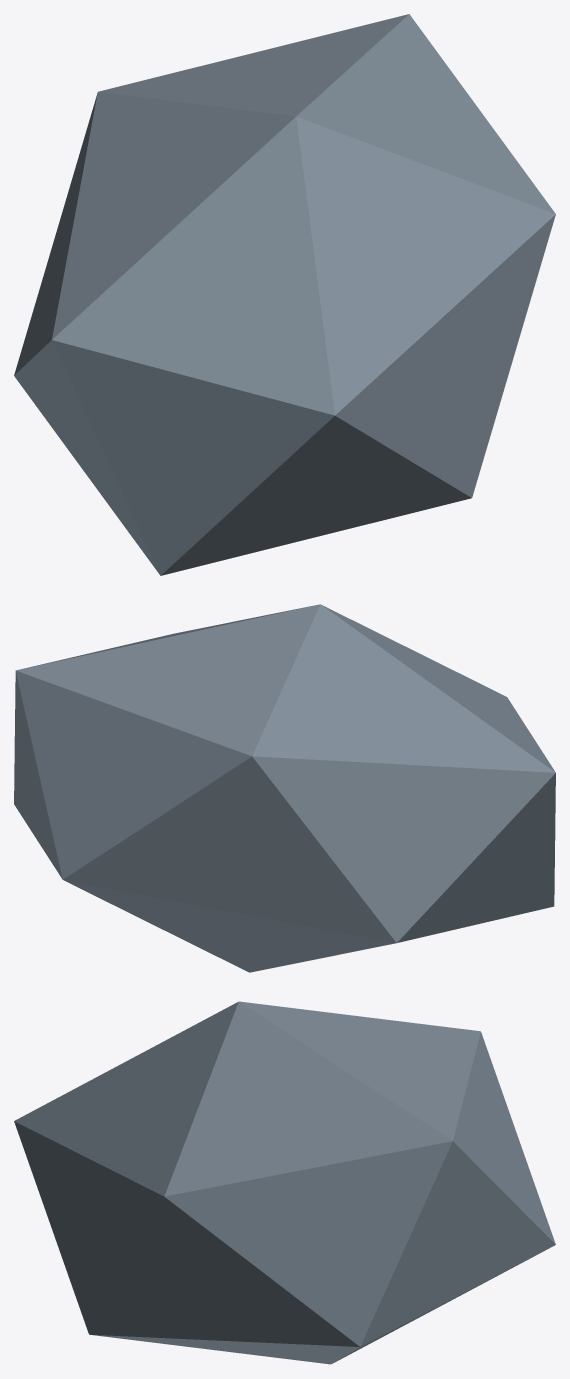
The model's file is INT_C_WallRubble_00_Stone_1.glb.
3 views of the same model, one above another, from view 1: azimuth 30°, elevation 25°; view 2: azimuth 150°, elevation 25°; view 3: azimuth 270°, elevation 25° (orthographic). The views are drawn at different scales.
Parts seen in each view (by area): view 1: INT_C_WallRubble_00_Stone_1; view 2: INT_C_WallRubble_00_Stone_1; view 3: INT_C_WallRubble_00_Stone_1.
Part boxes in pixels (<box>): INT_C_WallRubble_00_Stone_1: <box>14,14,555,575</box>; INT_C_WallRubble_00_Stone_1: <box>14,604,555,972</box>; INT_C_WallRubble_00_Stone_1: <box>14,1001,555,1364</box>.
Bounding box in the file's own units: 0.6119 × 0.4267 × 0.5987.
